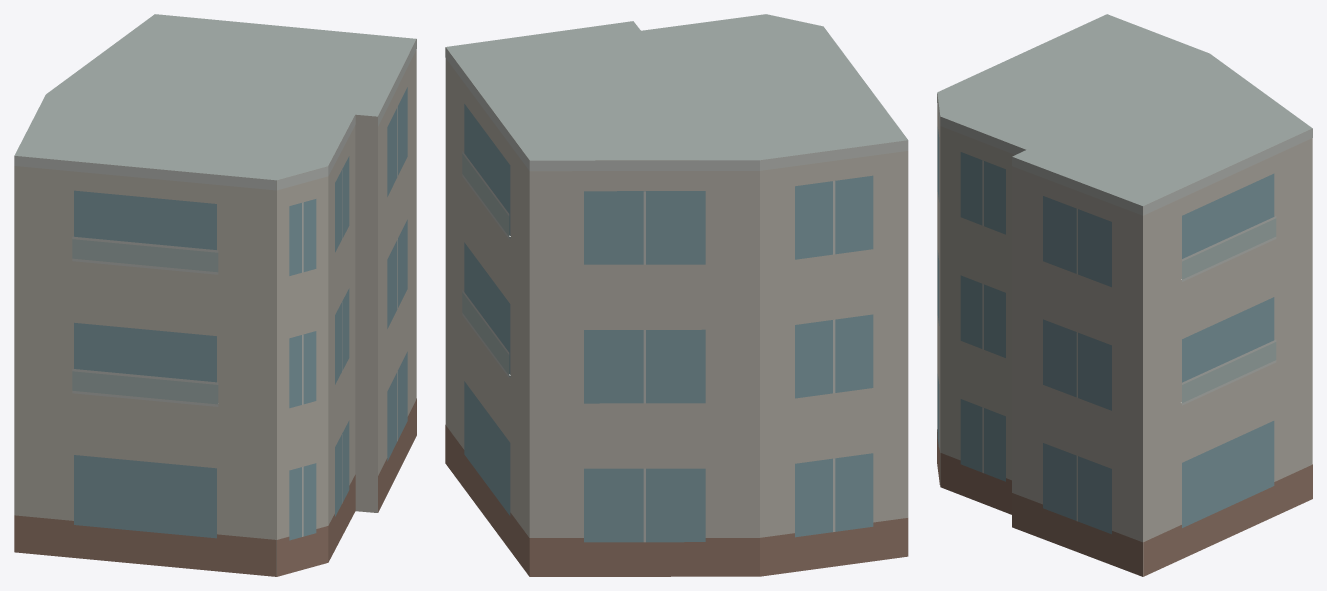
The model's file is survey-upis-32621092.glb.
3 renders of one model, left to right at view 1: azimuth 30°, elevation 25°; view 2: azimuth 150°, elevation 25°; view 3: azimuth 270°, elevation 25°, orthographic. The views are drawn at different scales.
Parts seen in each view (by area): view 1: survey-upis-32621092.tmp; view 2: survey-upis-32621092.tmp; view 3: survey-upis-32621092.tmp.
Part boxes in pixels (<box>): survey-upis-32621092.tmp: <box>14,14,416,576</box>; survey-upis-32621092.tmp: <box>445,14,908,576</box>; survey-upis-32621092.tmp: <box>937,14,1312,576</box>.
Bounding box in the file's own units: 10.58 × 9.5 × 8.73.
